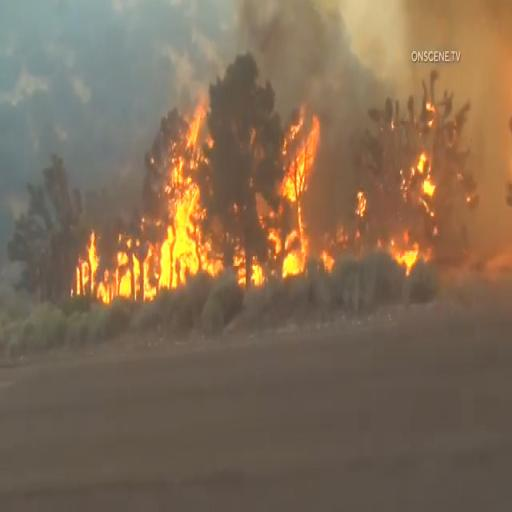fire: (159, 113, 201, 287), (282, 127, 315, 212), (110, 242, 140, 309), (280, 244, 318, 294), (392, 226, 423, 283), (73, 251, 105, 306)
smoke: (239, 4, 356, 108)
